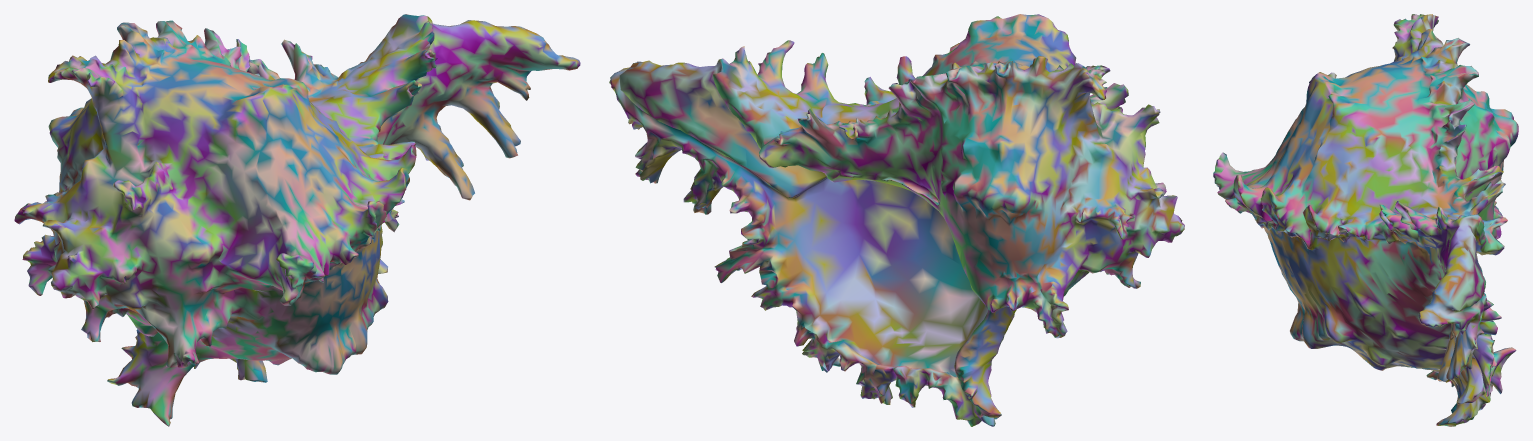
The model's file is shell.glb.
The picture shows the model from 3 angles, left to right: view 1: azimuth 30°, elevation 25°; view 2: azimuth 150°, elevation 25°; view 3: azimuth 270°, elevation 25°; orthographic projection. The views are drawn at different scales.
Bounding box in the file's own units: 1.53 × 1.03 × 0.8566.
